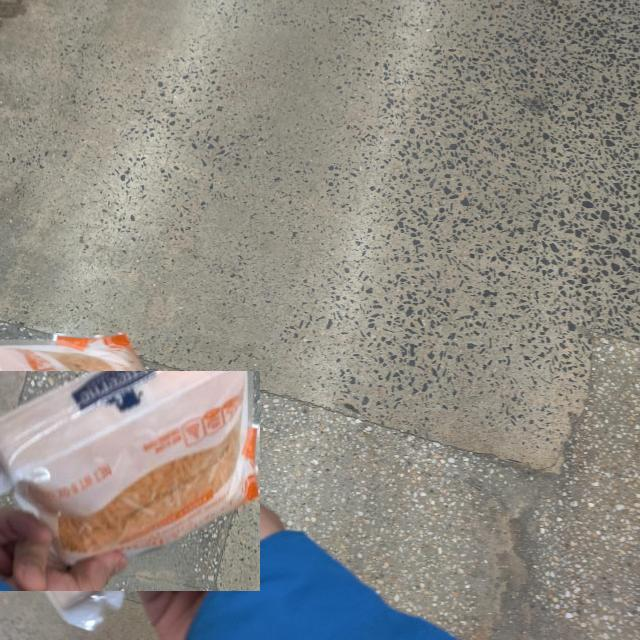Cheese: (0, 372, 260, 591)
